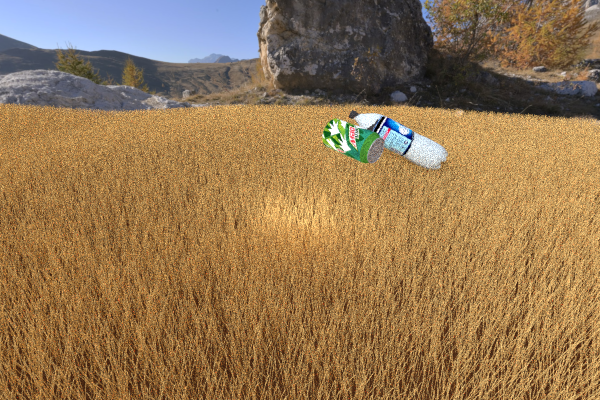Plastic Bottle: (348, 110, 447, 170), (322, 118, 384, 163), (150, 117, 216, 152)
